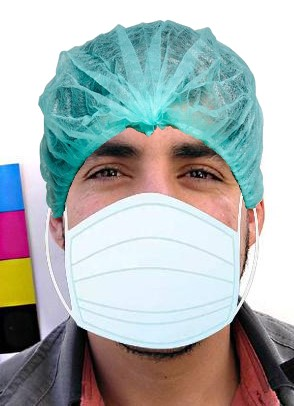with_mask_and_cap: (45, 24, 263, 346)
